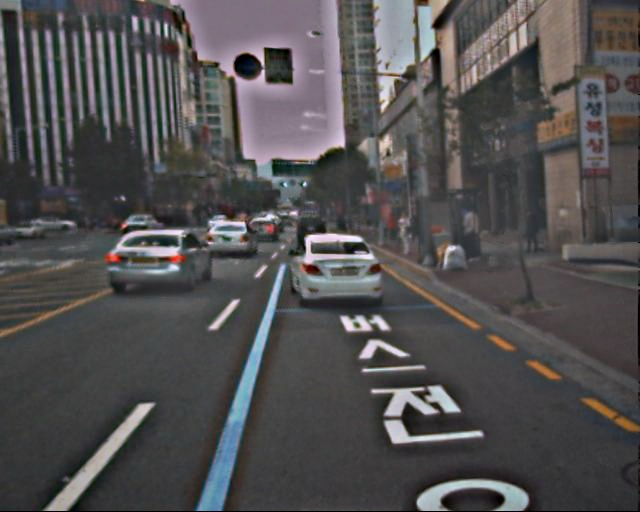person: (458, 205, 483, 265), (395, 208, 416, 258), (522, 208, 542, 256)
